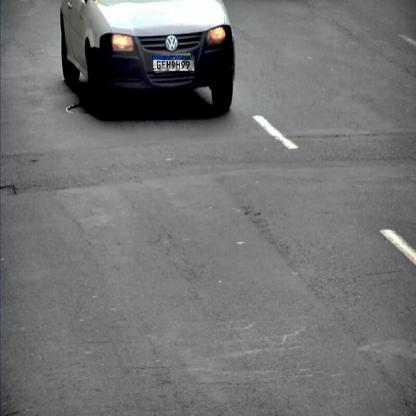PlacaM: (152, 56, 195, 72)
